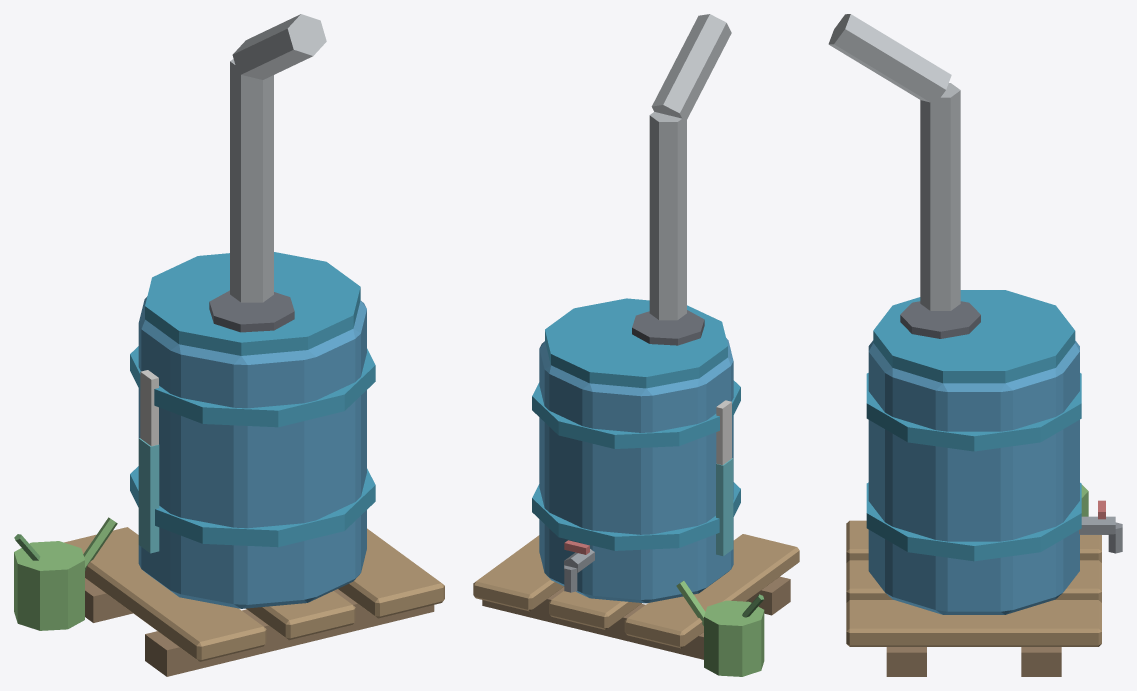
Rendered from mobiliario__barril_chuva.glb.
3 renders of one model, left to right at view 1: azimuth 30°, elevation 25°; view 2: azimuth 150°, elevation 25°; view 3: azimuth 270°, elevation 25°, orthographic. The views are drawn at different scales.
Parts seen in each view (by area): view 1: mobiliario__barril_chuva; view 2: mobiliario__barril_chuva; view 3: mobiliario__barril_chuva.
Boxes of the visible parts, box(x1,y1,x2,y2) form: mobiliario__barril_chuva: box(14, 14, 444, 676); mobiliario__barril_chuva: box(473, 14, 799, 676); mobiliario__barril_chuva: box(828, 14, 1122, 676).
Size of the model in its own units: 0.5146 by 0.975 by 0.437.
